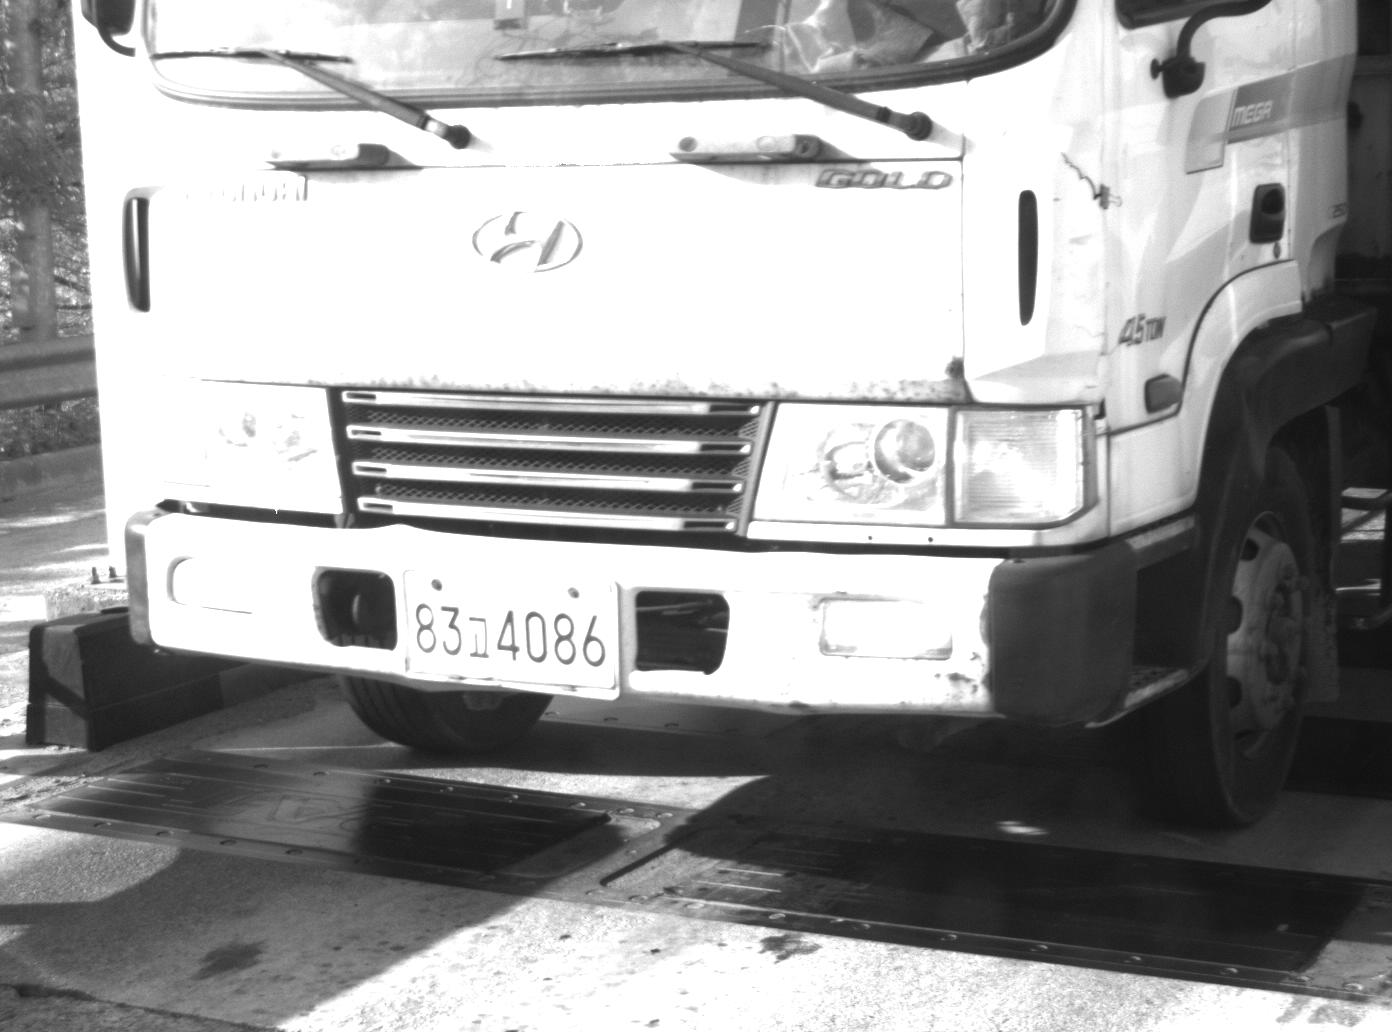car: (76, 1, 1389, 838)
plate: (391, 557, 628, 695)
